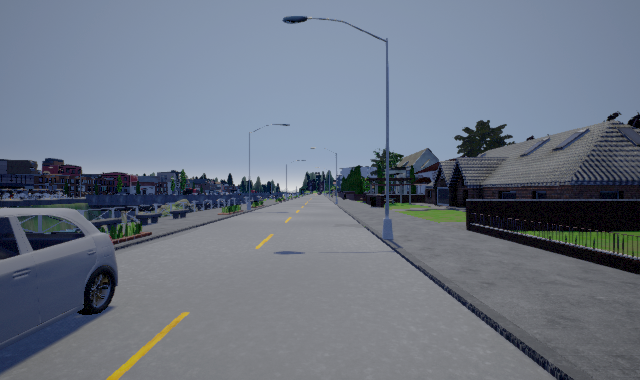vehicle: (1, 208, 118, 350)
